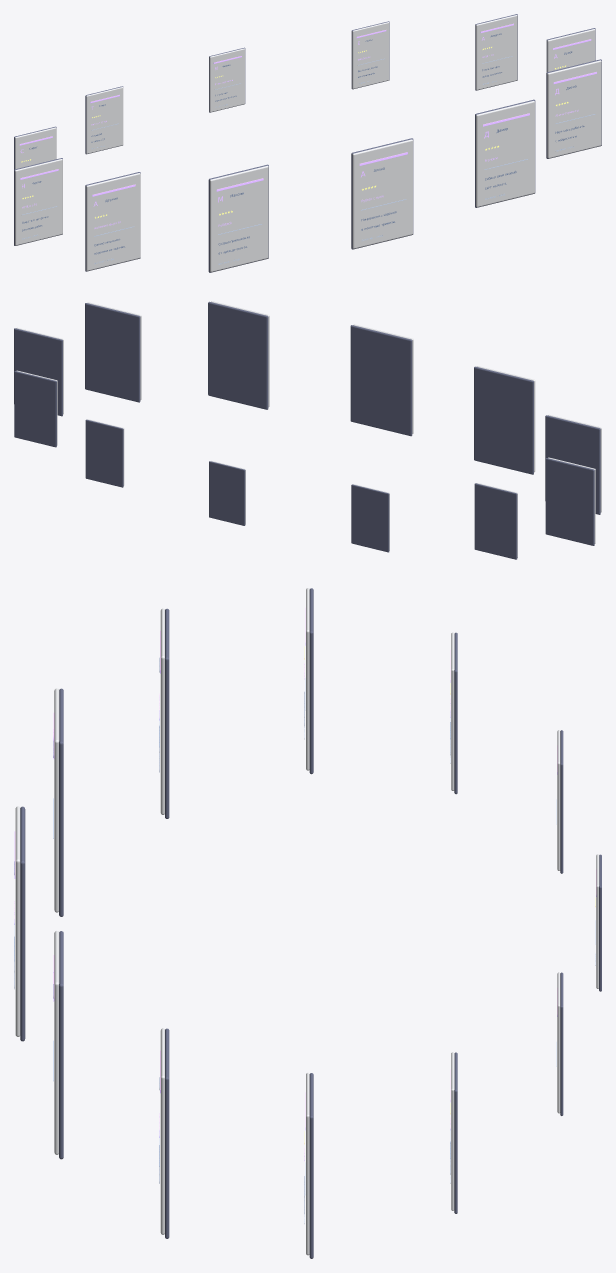
Rendered from carousel_slow.glb.
3 renders of one model, top to bottom at view 1: azimuth 30°, elevation 25°; view 2: azimuth 150°, elevation 25°; view 3: azimuth 270°, elevation 25°, orthographic. The views are drawn at different scales.
Parts seen in each view (by area): view 1: CARD_01_background, CARD_12_background, CARD_02_background, CARD_11_background, CARD_03_background, CARD_10_background, CARD_05_background, CARD_08_background, CARD_06_background, CARD_07_background, CARD_04_background, CARD_09_background (+4 smaller); view 2: CARD_01_shadow, CARD_02_shadow, CARD_12_shadow, CARD_03_shadow, CARD_10_shadow, CARD_09_shadow, CARD_05_shadow, CARD_11_shadow, CARD_06_shadow, CARD_08_shadow, CARD_04_shadow, CARD_07_shadow; view 3: CARD_01_shadow, CARD_01_background, CARD_02_background, CARD_12_background, CARD_02_shadow, CARD_12_shadow, CARD_03_shadow, CARD_11_shadow, CARD_03_background, CARD_11_background, CARD_10_shadow, CARD_04_shadow.
Part boxes in pixels (x1,y1,x2,y2): CARD_01_background: [352, 139, 412, 248]; CARD_12_background: [210, 165, 268, 272]; CARD_02_background: [476, 101, 534, 207]; CARD_11_background: [86, 173, 140, 270]; CARD_03_background: [547, 60, 601, 158]; CARD_10_background: [15, 159, 62, 245]; CARD_05_background: [476, 15, 517, 89]; CARD_08_background: [86, 87, 123, 153]; CARD_06_background: [352, 22, 389, 88]; CARD_07_background: [209, 48, 244, 112]; CARD_04_background: [547, 29, 595, 72]; CARD_09_background: [15, 127, 56, 169]; CARD_01_shadow: [350, 325, 412, 436]; CARD_02_shadow: [208, 301, 268, 409]; CARD_12_shadow: [474, 366, 533, 474]; CARD_03_shadow: [85, 303, 140, 402]; CARD_10_shadow: [545, 458, 594, 545]; CARD_09_shadow: [474, 483, 517, 559]; CARD_05_shadow: [14, 371, 56, 447]; CARD_11_shadow: [545, 415, 600, 514]; CARD_06_shadow: [85, 419, 123, 487]; CARD_08_shadow: [351, 484, 389, 552]; CARD_04_shadow: [14, 328, 62, 416]; CARD_07_shadow: [209, 461, 245, 525]; CARD_01_shadow: [20, 806, 25, 1041]; CARD_01_background: [15, 806, 20, 1036]; CARD_02_background: [54, 931, 59, 1154]; CARD_12_background: [54, 688, 59, 912]; CARD_02_shadow: [59, 931, 63, 1159]; CARD_12_shadow: [59, 688, 63, 916]; CARD_03_shadow: [165, 1028, 169, 1238]; CARD_11_shadow: [165, 608, 169, 818]; CARD_03_background: [160, 1028, 164, 1234]; CARD_11_background: [160, 608, 164, 814]; CARD_10_shadow: [309, 588, 313, 774]; CARD_04_shadow: [309, 1073, 313, 1258].
Size of the model in its own units: 19.87 by 3.16 by 9.33.
